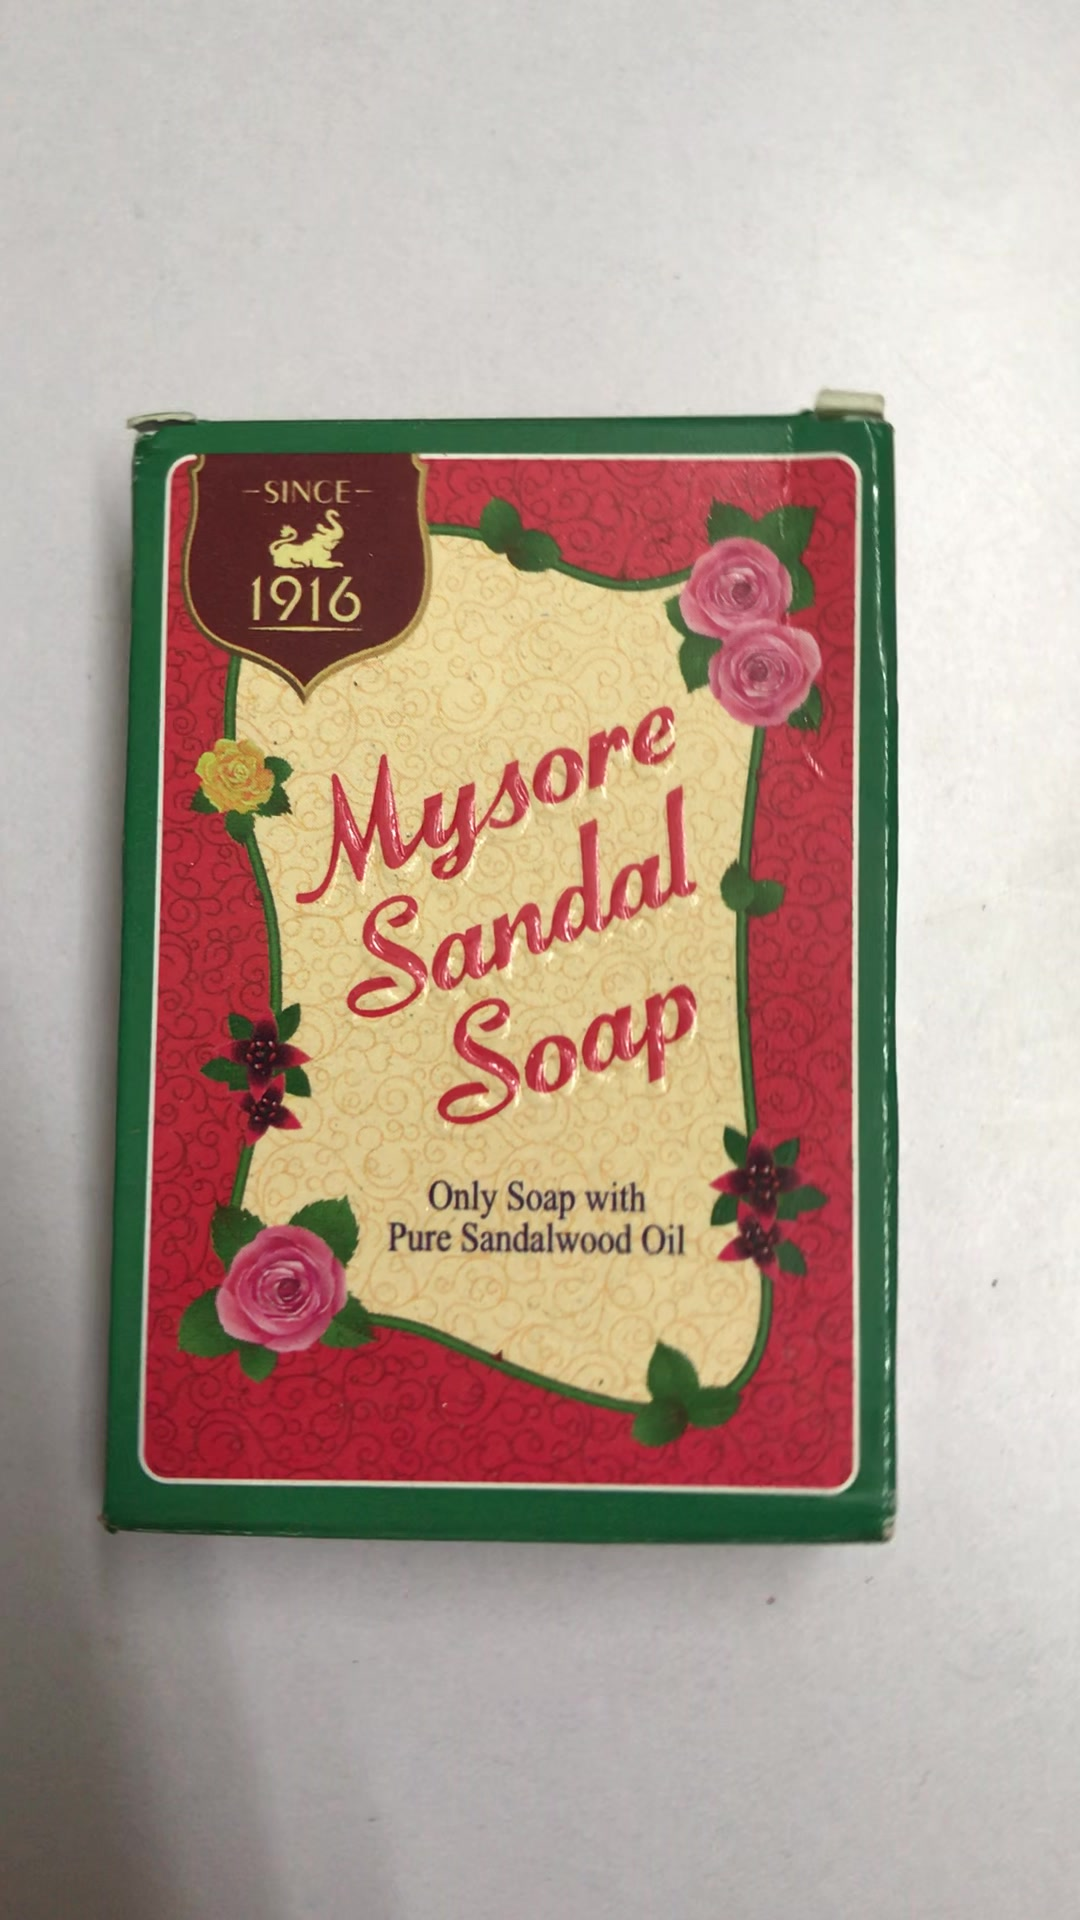mysore sandal soap: (107, 402, 897, 1540)
